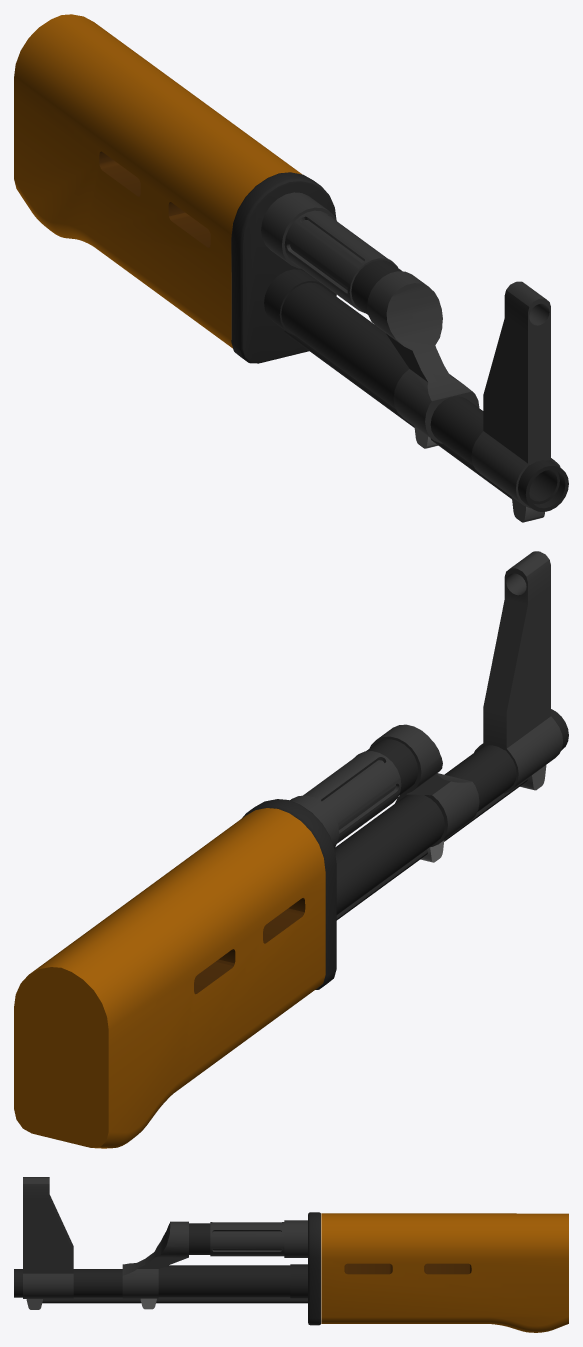
File: barrel_2.fbx
3 renders of one model, top to bottom at view 1: azimuth 30°, elevation 25°; view 2: azimuth 150°, elevation 25°; view 3: azimuth 270°, elevation 25°, orthographic. The views are drawn at different scales.
Parts seen in each view (by area): view 1: barrel_2; view 2: barrel_2; view 3: barrel_2.
Part boxes in pixels (left/top/right/bottom): barrel_2: left=14, top=14, right=568, bottom=522; barrel_2: left=14, top=551, right=568, bottom=1148; barrel_2: left=14, top=1177, right=568, bottom=1332.
Size of the model in its own units: 193 by 487 by 1684.
